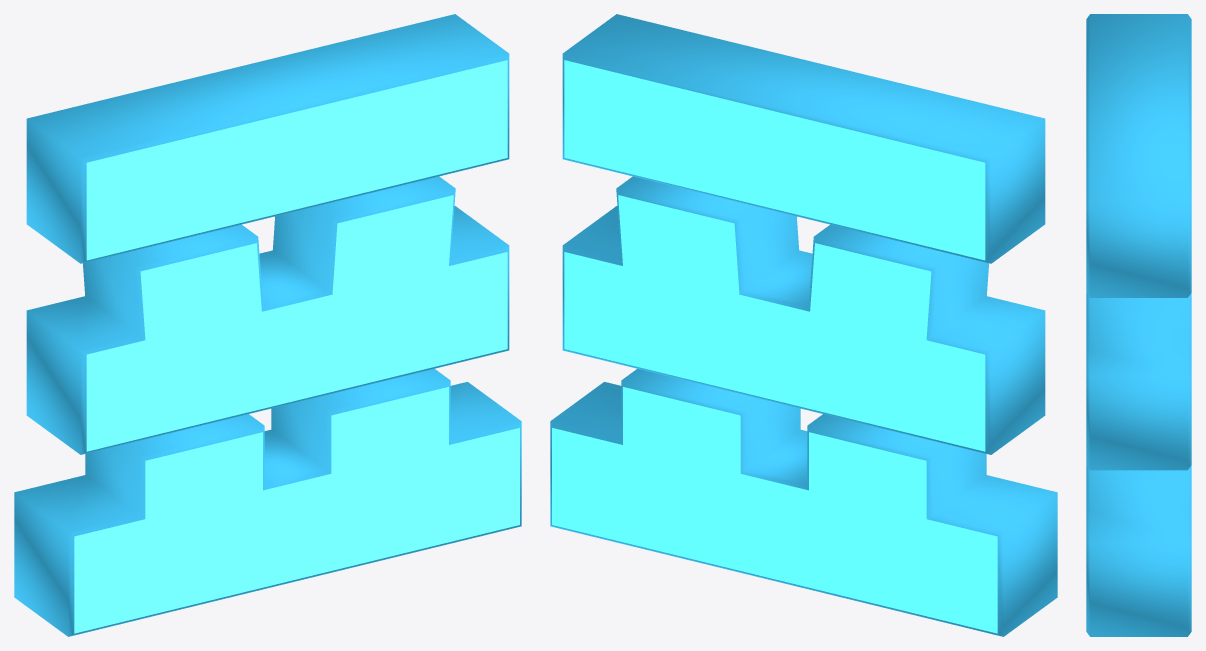
3 renders of one model, left to right at view 1: azimuth 30°, elevation 25°; view 2: azimuth 150°, elevation 25°; view 3: azimuth 270°, elevation 25°, orthographic. The views are drawn at different scales.
Visible parts, largest first — view 1: glyph; view 2: glyph; view 3: glyph.
Boxes of the visible parts, x1,y1,x2,y2 form: glyph: (14,14,521,636); glyph: (550,14,1057,636); glyph: (1086,14,1191,636).
Bounding box in the file's own units: 0.0726 × 0.0728 × 0.0162.
